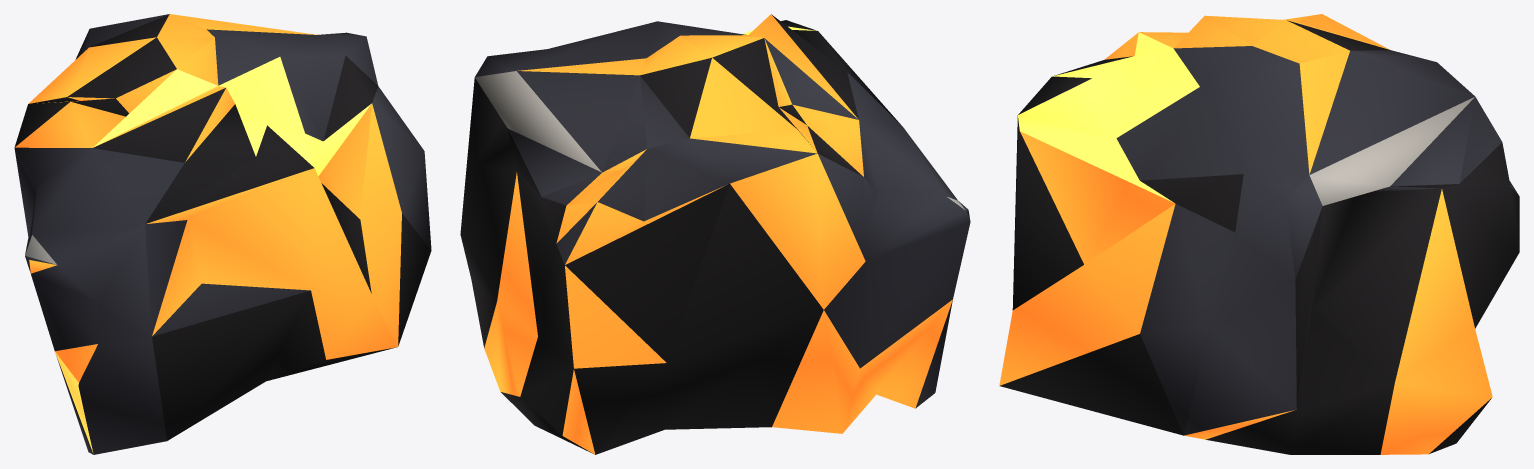
The model's file is ember_coal_hot_a_lod2.glb.
3 renders of one model, left to right at view 1: azimuth 30°, elevation 25°; view 2: azimuth 150°, elevation 25°; view 3: azimuth 270°, elevation 25°, orthographic. The views are drawn at different scales.
Visible parts, largest first — view 1: ember_coal_hot_a.001; view 2: ember_coal_hot_a.001; view 3: ember_coal_hot_a.001.
Boxes of the visible parts, x1,y1,x2,y2 form: ember_coal_hot_a.001: (14, 14, 431, 454); ember_coal_hot_a.001: (460, 14, 970, 454); ember_coal_hot_a.001: (999, 14, 1519, 454).
Bounding box in the file's own units: 2.55 × 1.99 × 2.31.
